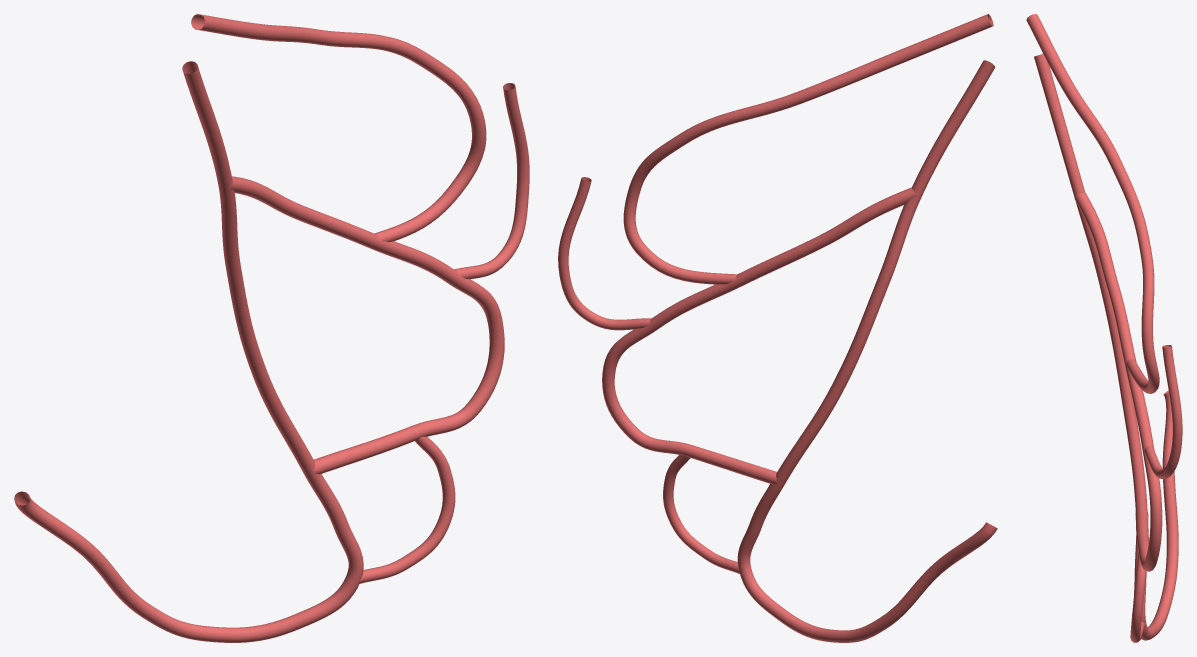
The model's file is Sigmoid_arteries.glb.
3 renders of one model, left to right at view 1: azimuth 30°, elevation 25°; view 2: azimuth 150°, elevation 25°; view 3: azimuth 270°, elevation 25°, orthographic. The views are drawn at different scales.
Parts seen in each view (by area): view 1: Sigmoid_arteries_BezierCurve.205; view 2: Sigmoid_arteries_BezierCurve.205; view 3: Sigmoid_arteries_BezierCurve.205.
Boxes of the visible parts, x1,y1,x2,y2 form: Sigmoid_arteries_BezierCurve.205: (14,14,529,642); Sigmoid_arteries_BezierCurve.205: (558,14,997,642); Sigmoid_arteries_BezierCurve.205: (1026,14,1182,642).
Size of the model in its own units: 0.066 by 0.0873 by 0.022.
